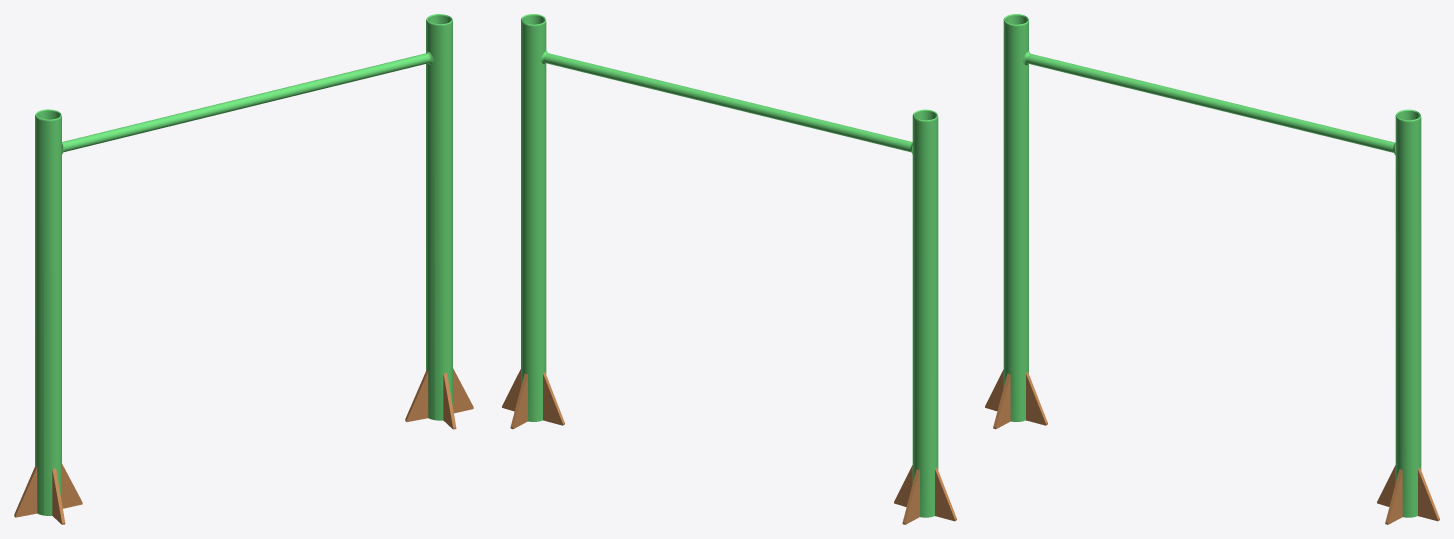
Rendered from paudearara.fbx.
3 renders of one model, left to right at view 1: azimuth 30°, elevation 25°; view 2: azimuth 150°, elevation 25°; view 3: azimuth 330°, elevation 25°, orthographic.
Visible parts, largest first — view 1: polySurface3; view 2: polySurface3; view 3: polySurface3.
Part boxes in pixels (x1=…): polySurface3: x1=14, y1=14, x2=473, y2=524; polySurface3: x1=502, y1=14, x2=956, y2=524; polySurface3: x1=985, y1=14, x2=1439, y2=524.
Bounding box in the file's own units: 199 × 166 × 28.09.
